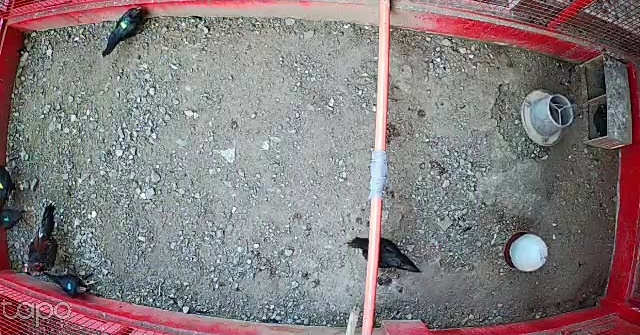Chicken: (346, 236, 424, 274), (102, 8, 146, 57), (45, 271, 98, 298), (0, 200, 26, 242)
Rooster: (27, 201, 70, 278)
Saddle_Color_Blue: (68, 282, 72, 292)
Saddle_Color_YellowGreen: (120, 18, 131, 31)
